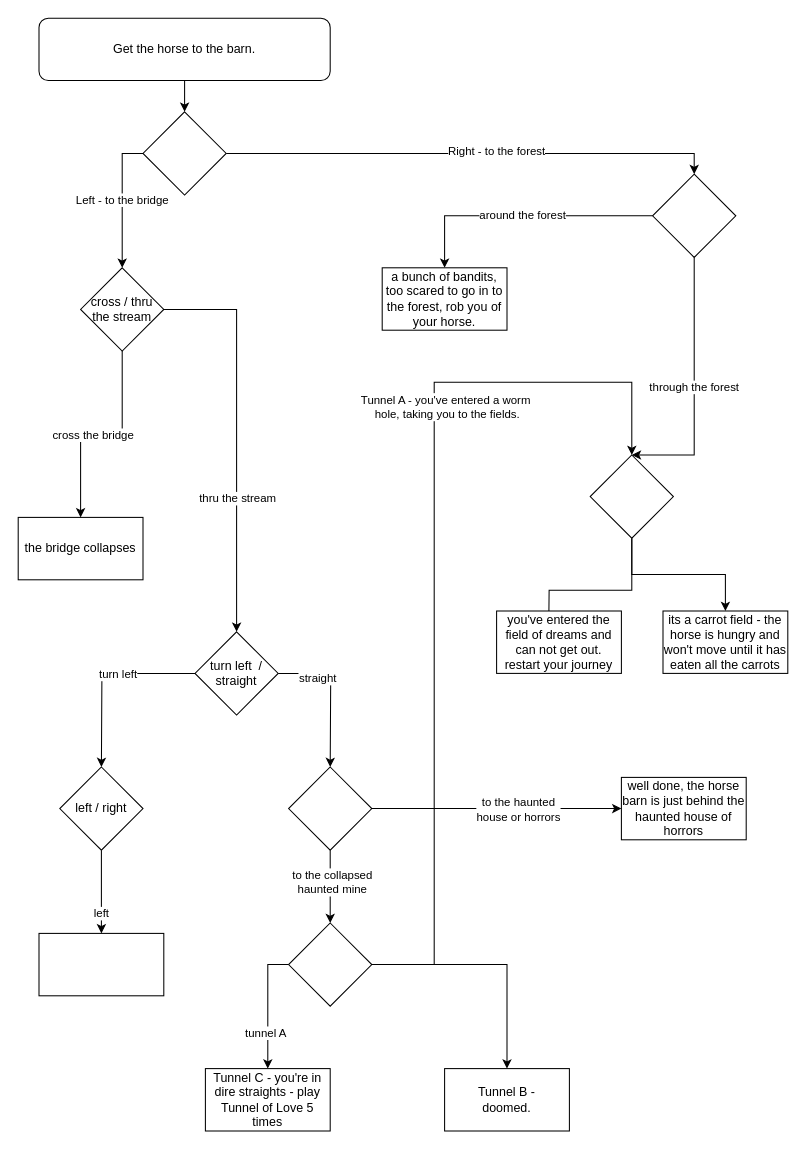
This 806x1149 diagram has some shape labels left out. Here are the shapes that lost their labels. From the top down, the box of each, then its label:
(142, 111, 226, 195): left or right
(652, 173, 736, 257): through / around
(589, 454, 673, 538): field A / field B
(288, 766, 372, 850): straight / right
(38, 932, 164, 996): you are back where you started
(288, 922, 372, 1006): tunnel A, B or C
